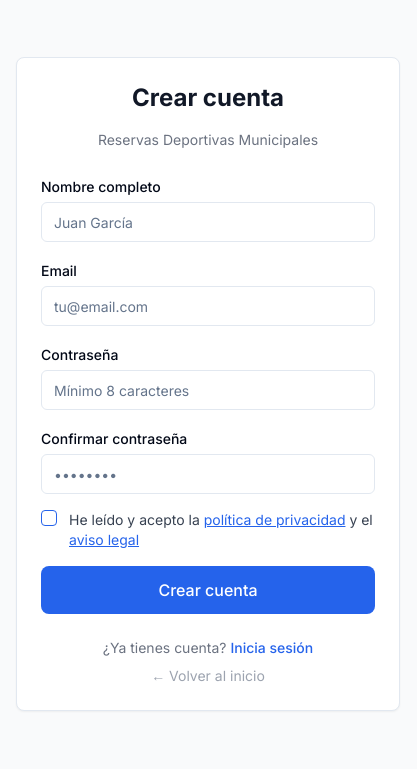
Test: PaginaRegistro › debería mostrar error si la contraseña tiene menos de 8 caracteres
Note: Rellenar nombre y email mínimos
Step 1. Type "Test Usuario" into the field labelled "Nombre completo" → (208, 222), box x1=41 y1=202 x2=375 y2=242
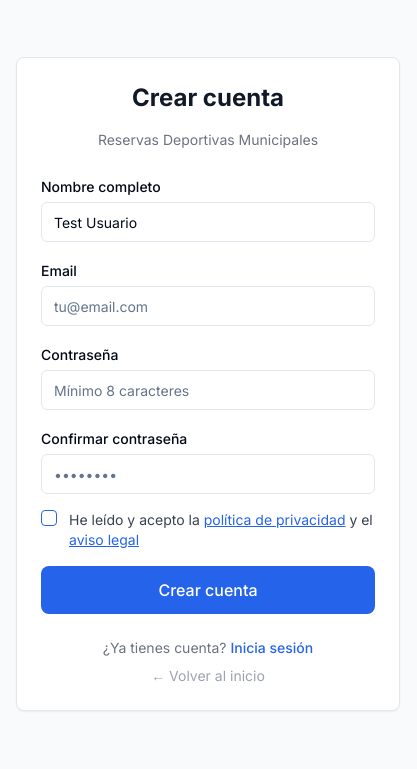
Step 2. Type "test@test.com" into the field labelled "Email" → (208, 306), box x1=41 y1=286 x2=375 y2=326
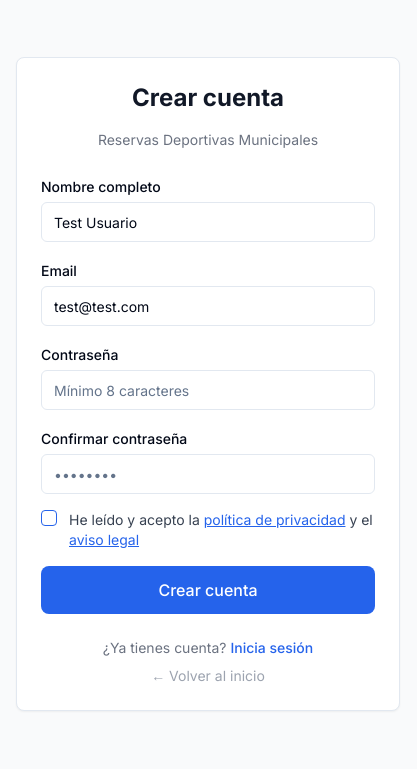
Step 3. Type "corta" into the password field labelled "Contraseña" → (208, 390), box x1=41 y1=370 x2=375 y2=410
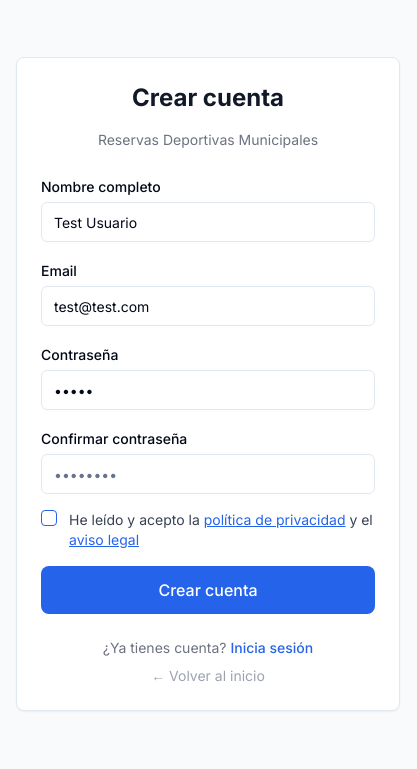
Step 4. Type "corta" into the password field with id "confirmar" → (208, 474), box x1=41 y1=454 x2=375 y2=494
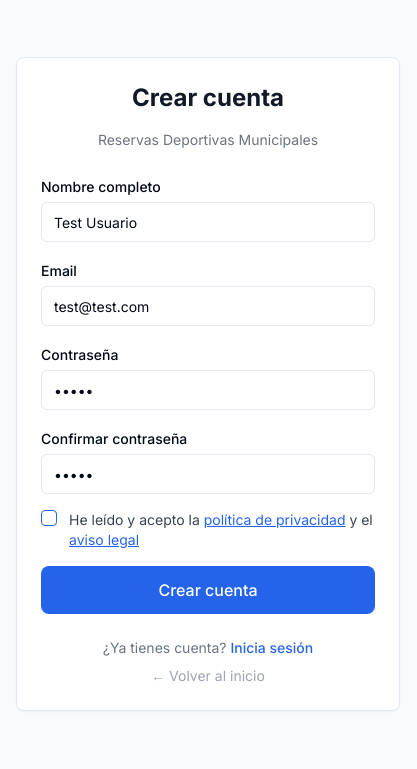
Note: Marcar el checkbox de privacidad
Step 5. Click the checkbox with id "aceptaPrivacidad" → (49, 518), box x1=41 y1=510 x2=57 y2=526
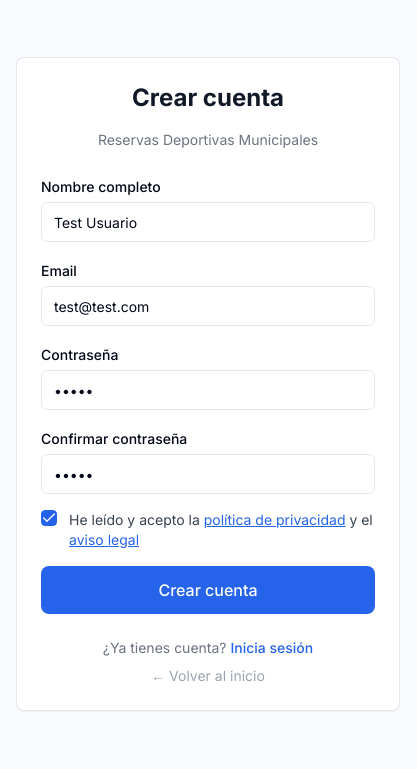
Step 6. Submit the form, box x1=41 y1=174 x2=375 y2=614
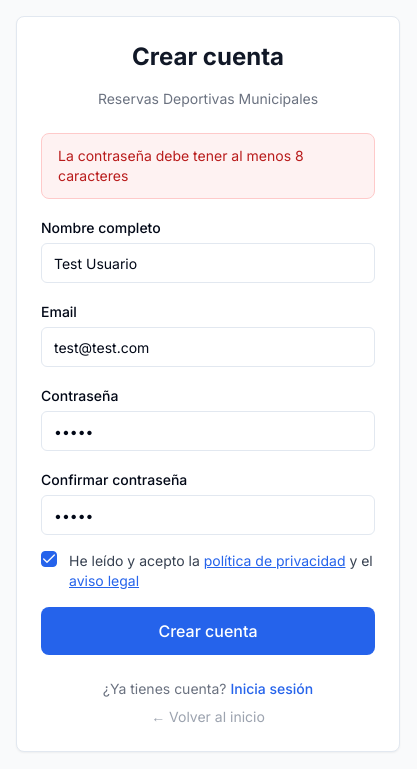
Now the message shows "8 caracteres", box x1=58 y1=147 x2=304 y2=184
